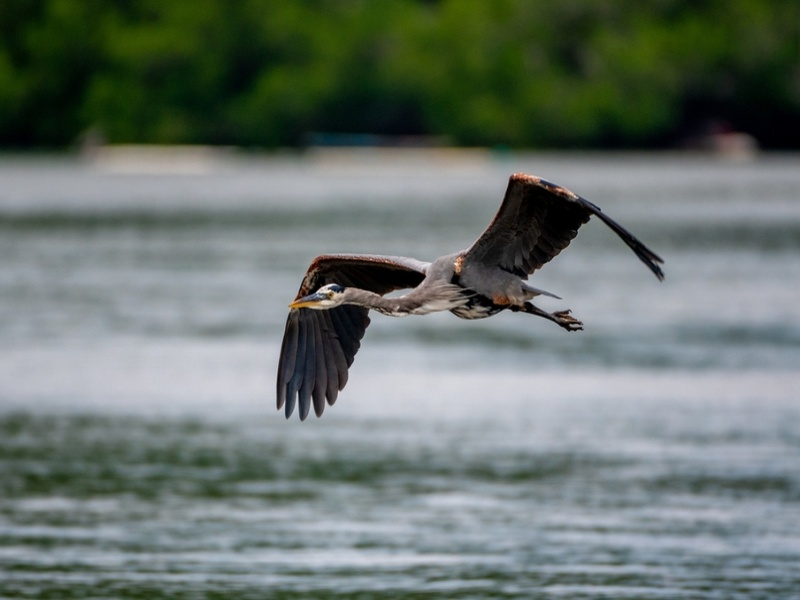heron: (270, 172, 669, 431)
